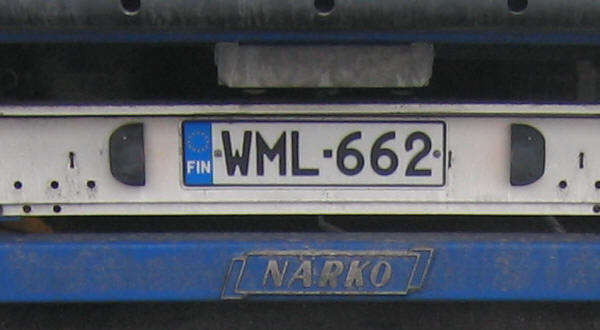license_plate: (179, 119, 447, 187)
